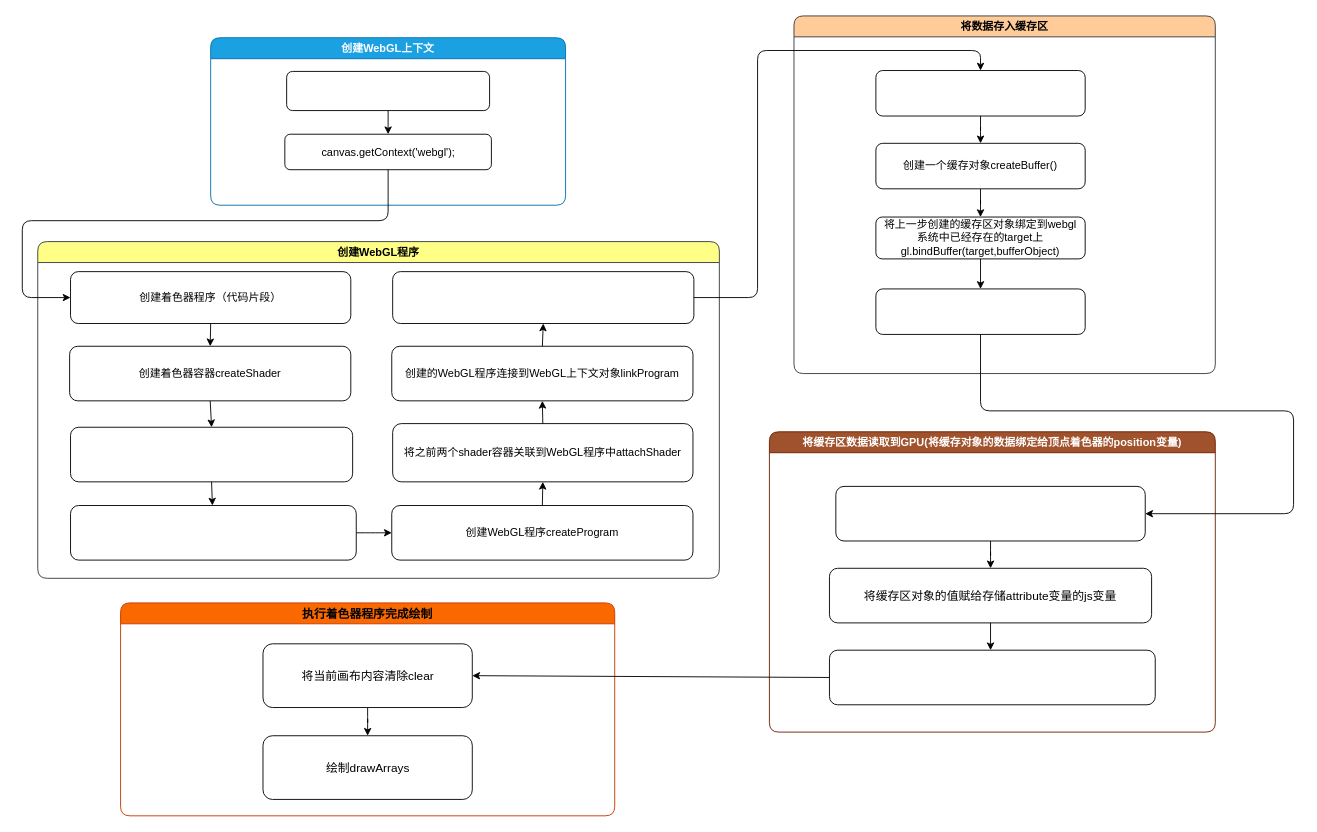
Some shapes in this 1317 by 832 pixel diagram are drawn without their labels. The centre of each missing label's shape, as x and y in pixels:
"document.querySelector('canvas');" belongs at (x=388, y=91).
"向绑定在target上的缓存区对象中写入数据 gl.bufferData(target,data,usage)" belongs at (x=980, y=311).
"定义或导入数据" belongs at (x=980, y=93).
"将创建的着色器程序添加到着色器容器中 shaderSource" belongs at (x=211, y=454).
"激活这个变量enableVertexAttribArray" belongs at (x=992, y=677).
"编译已添加的后的着色器容器" belongs at (x=213, y=532).
"获取顶点着色器中的attribute变量的地址getAttribLocation" belongs at (x=990, y=513).
"通过useProgram选择启用这个WebGLProgram对象" belongs at (x=543, y=297).
